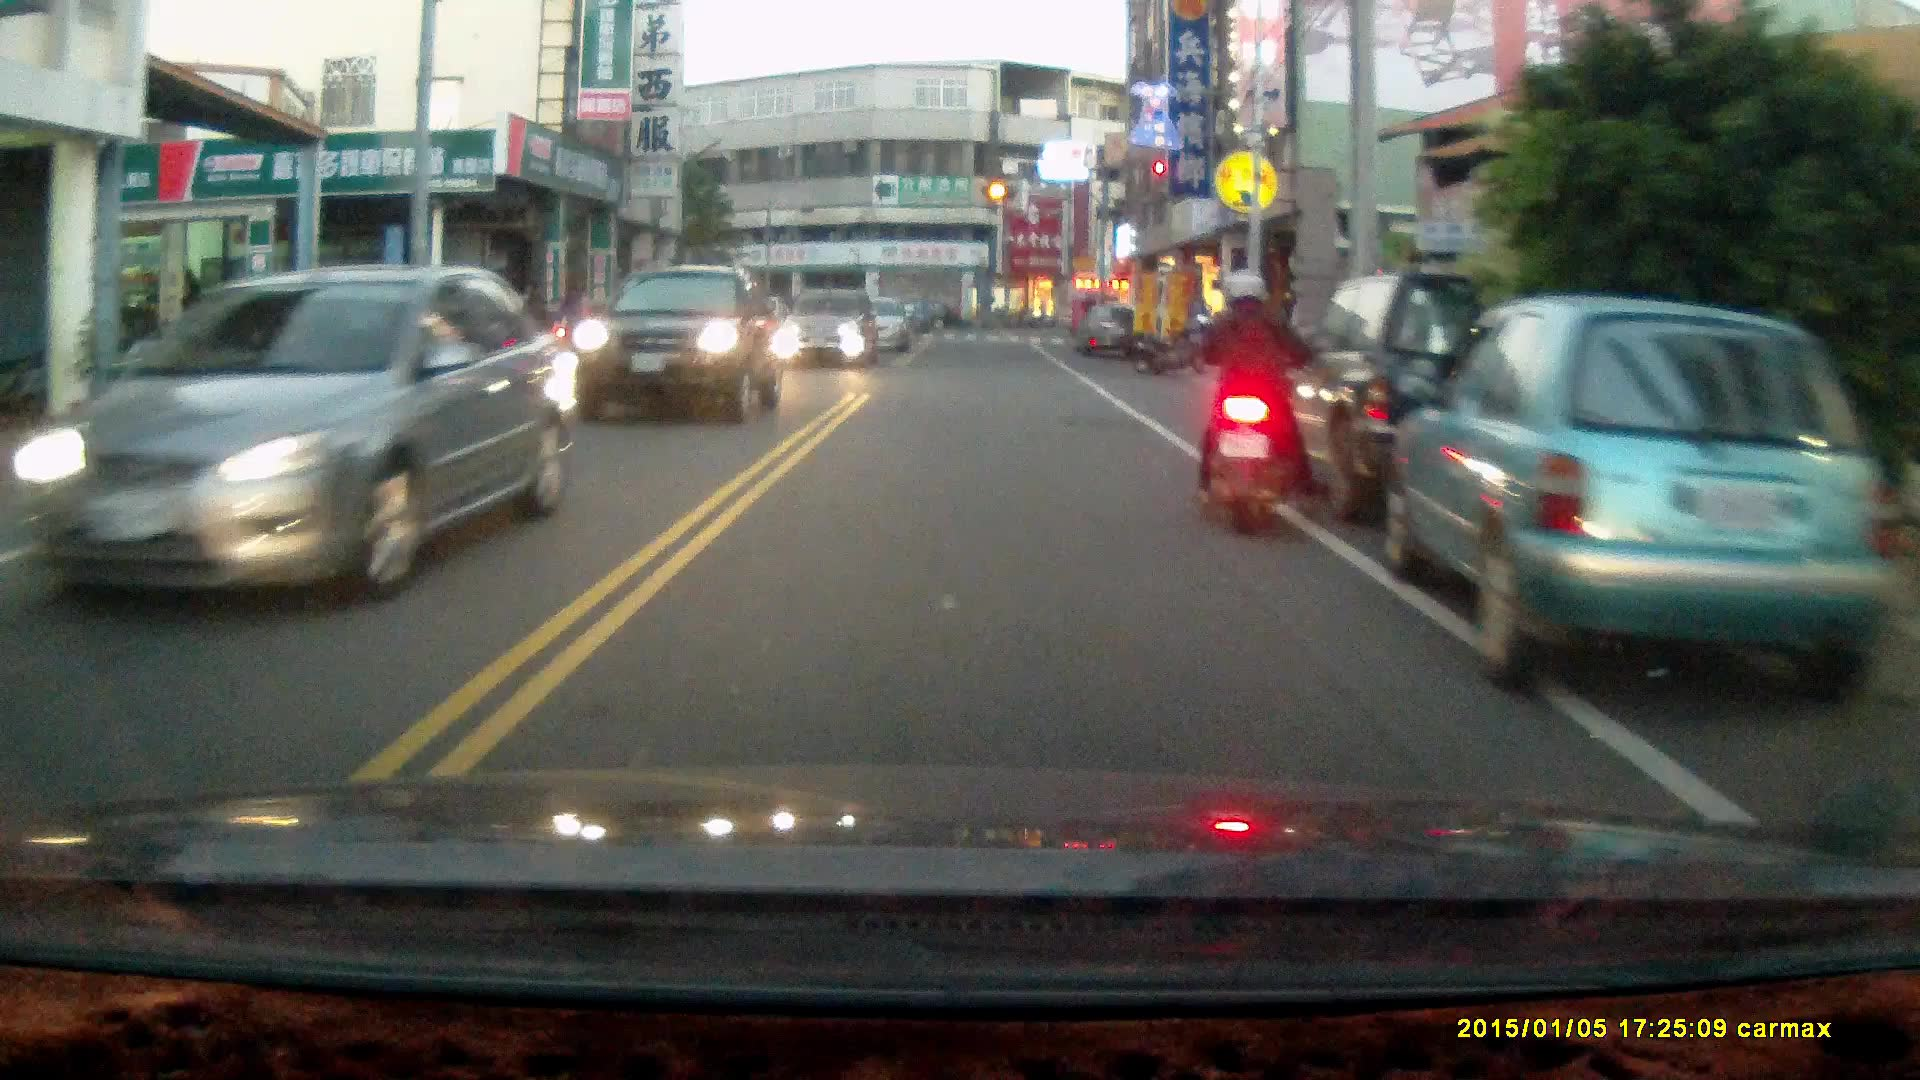rider: (1187, 264, 1318, 538)
vehicle: (1377, 294, 1870, 701), (37, 270, 583, 605), (1239, 269, 1615, 525), (573, 261, 773, 419), (774, 286, 883, 368), (1071, 300, 1141, 358)
